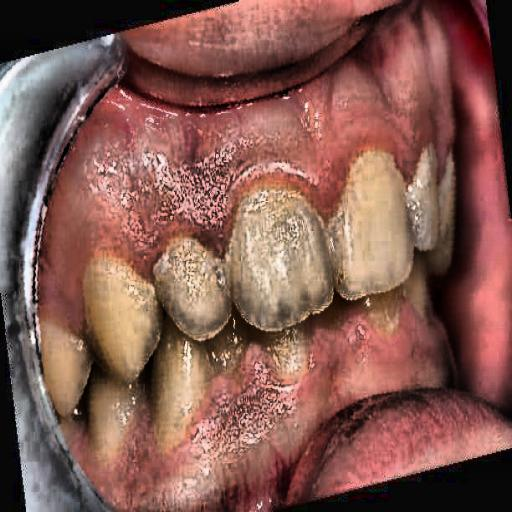Gingivitis: (42, 58, 245, 280), (245, 37, 423, 205)
